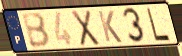3: (122, 7, 147, 46)
4: (54, 11, 73, 48)
B: (20, 11, 52, 49)
K: (96, 10, 124, 44)
L: (146, 7, 172, 43)
X: (70, 9, 102, 48)
